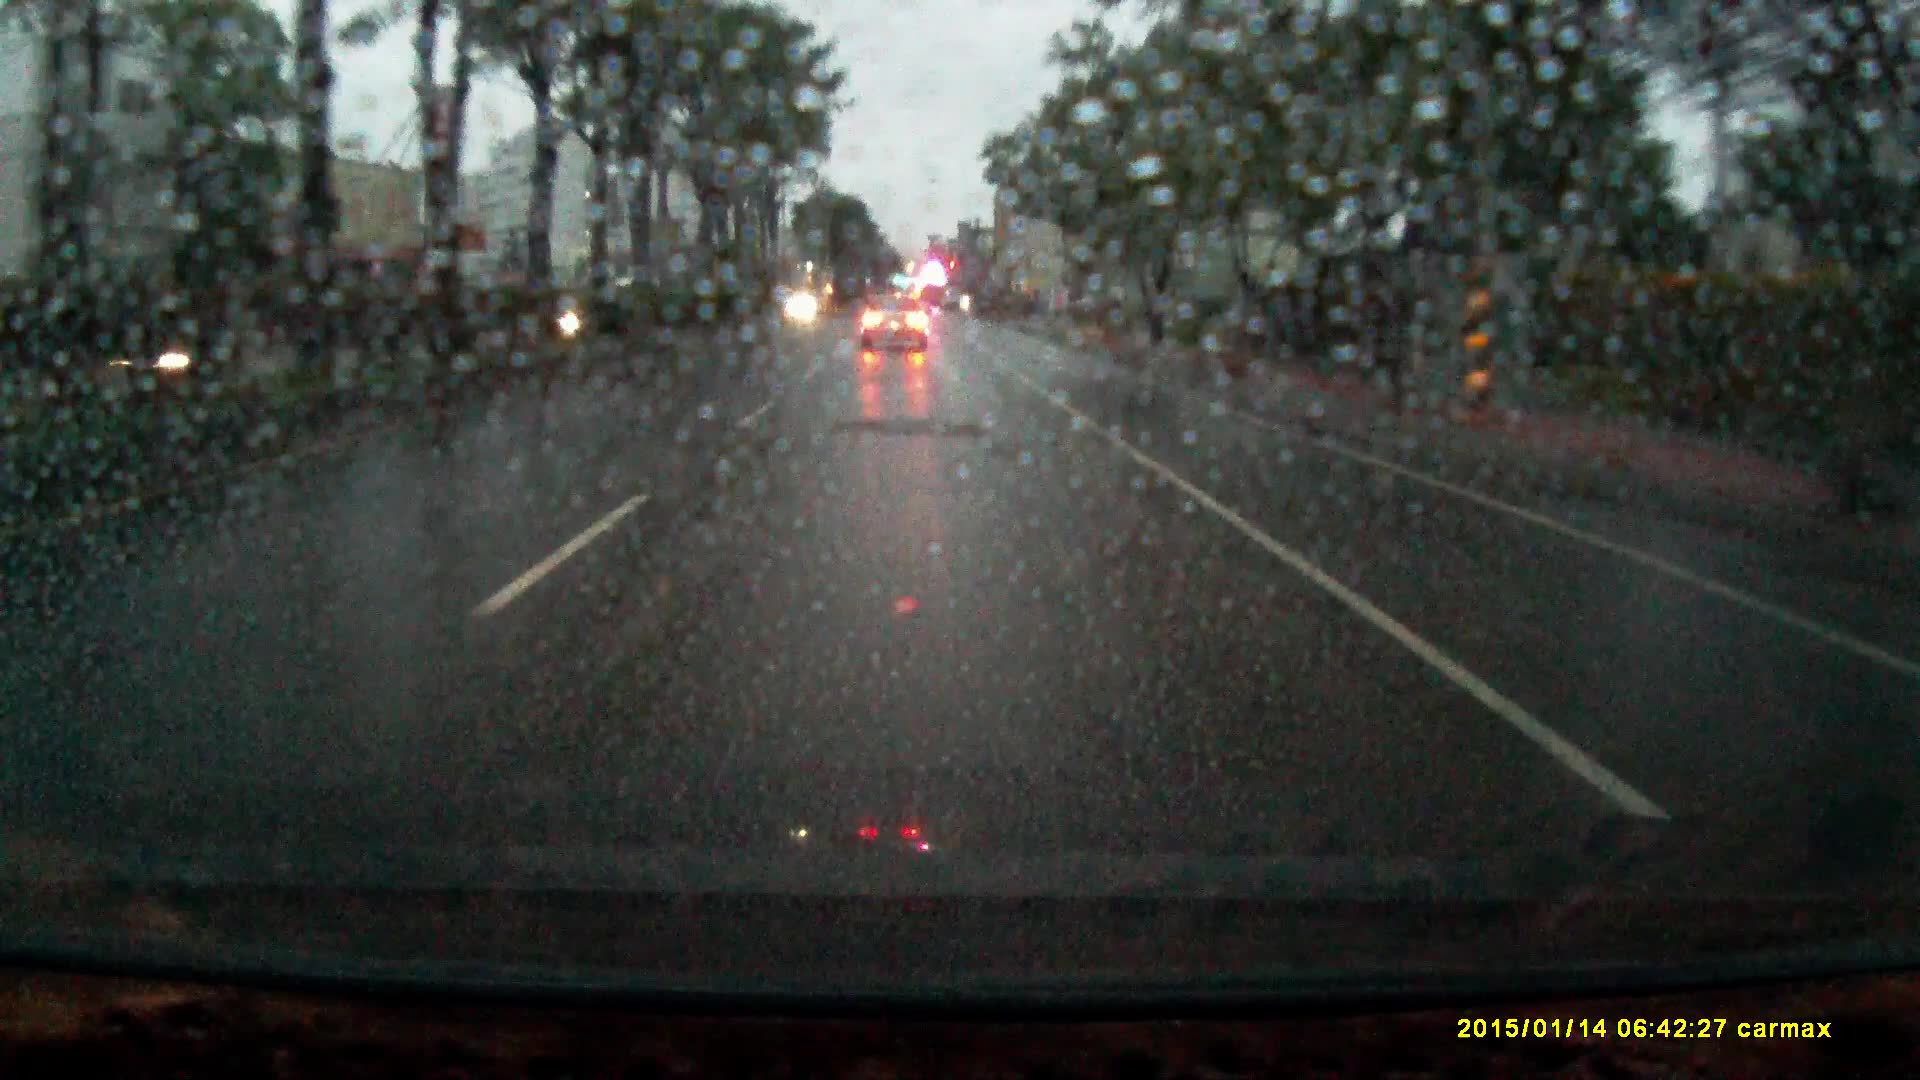vehicle: (861, 284, 930, 342)
